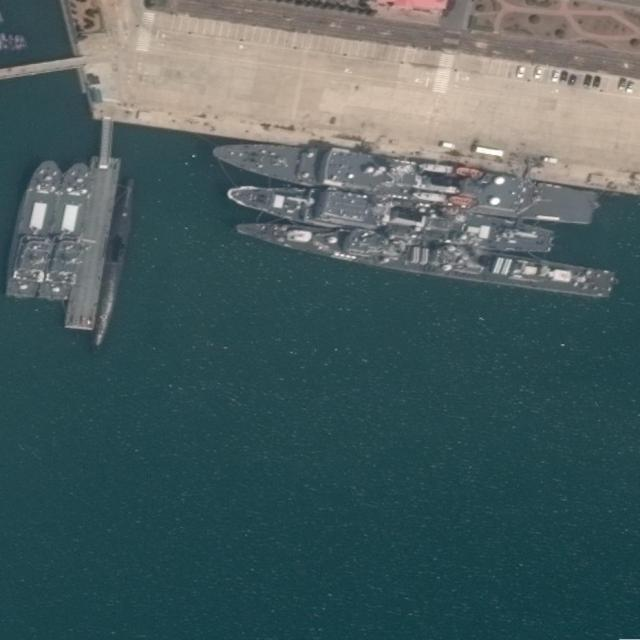Destroyer: (234, 215, 617, 300)
Dock: (65, 155, 121, 331)
Landing: (35, 160, 100, 304), (6, 156, 58, 300)
Other Warship: (205, 137, 596, 225), (221, 178, 558, 259)
Submarine: (89, 173, 139, 357)
